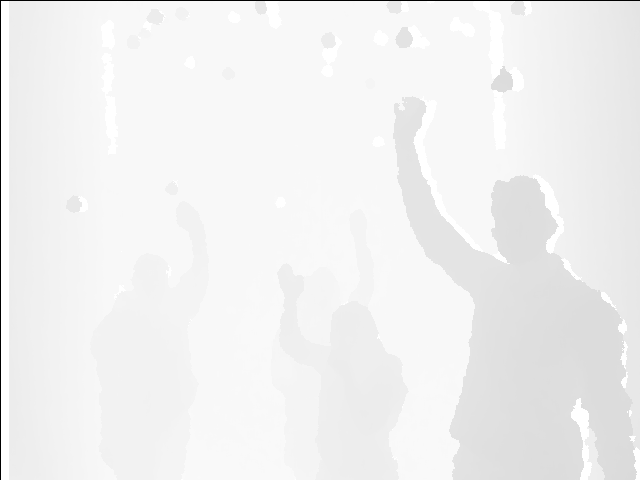hand: (391, 97, 428, 147), (172, 199, 207, 241), (276, 263, 308, 302), (345, 208, 378, 242)
